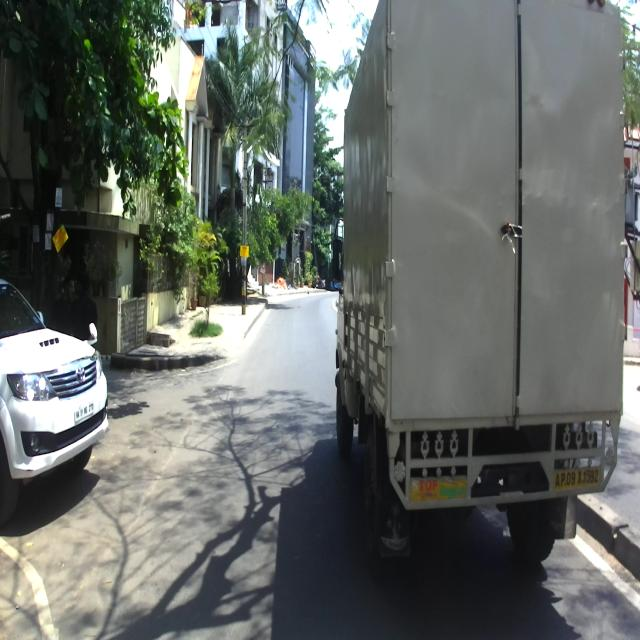car ahead at: (0, 277, 108, 525)
truck ahead at: (342, 0, 624, 569)
